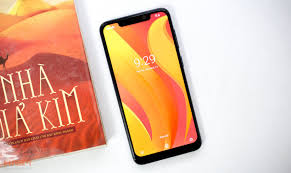vsmart: (96, 3, 203, 166)
